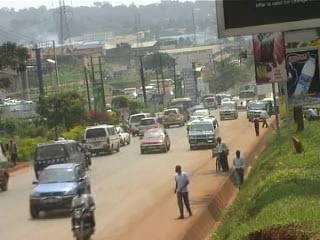Car: (27, 160, 93, 218), (139, 127, 172, 156), (136, 116, 169, 139), (161, 106, 185, 128), (114, 125, 132, 149), (190, 107, 214, 121), (236, 98, 250, 112), (190, 103, 206, 115), (218, 97, 235, 108), (231, 95, 241, 103)
Motorcycle: (68, 189, 99, 236), (80, 139, 96, 167)
